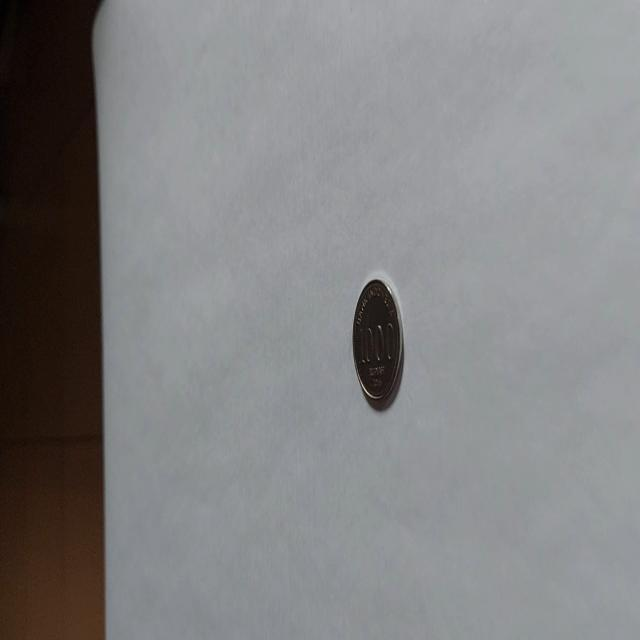seribu rupiah koin: (351, 276, 404, 410)
